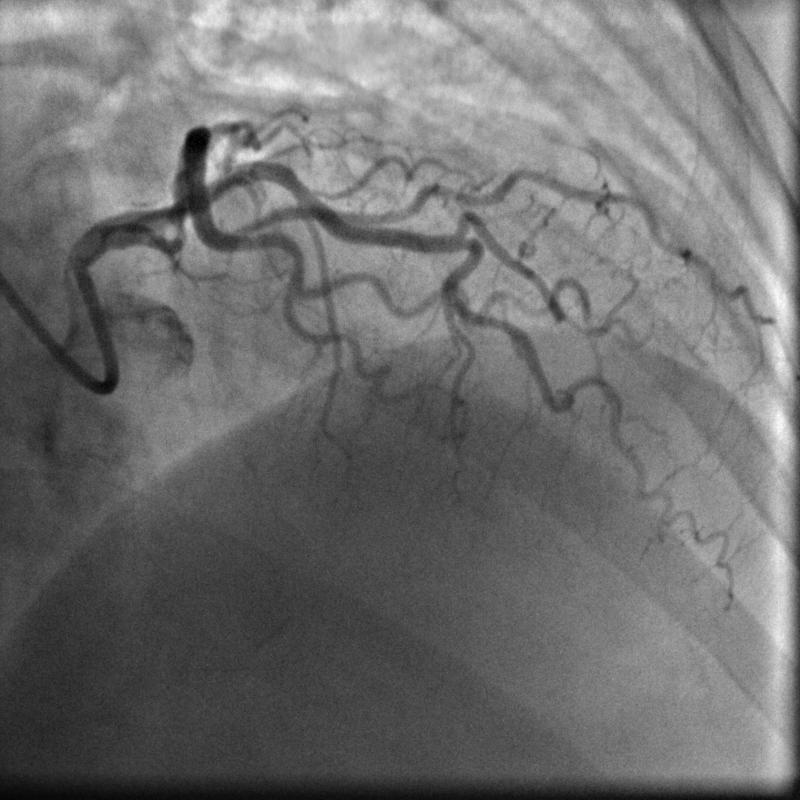Stenosis: (159, 203, 187, 255)
